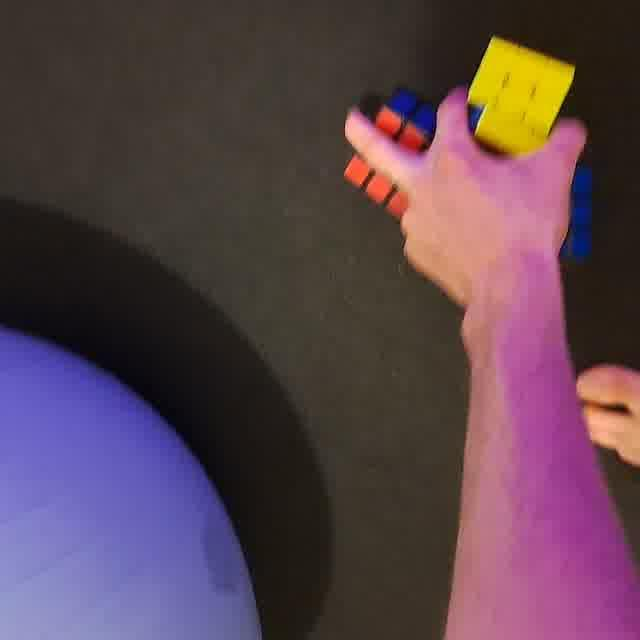rubix_cube: (435, 144, 597, 263), (339, 84, 468, 232), (461, 31, 579, 165)
